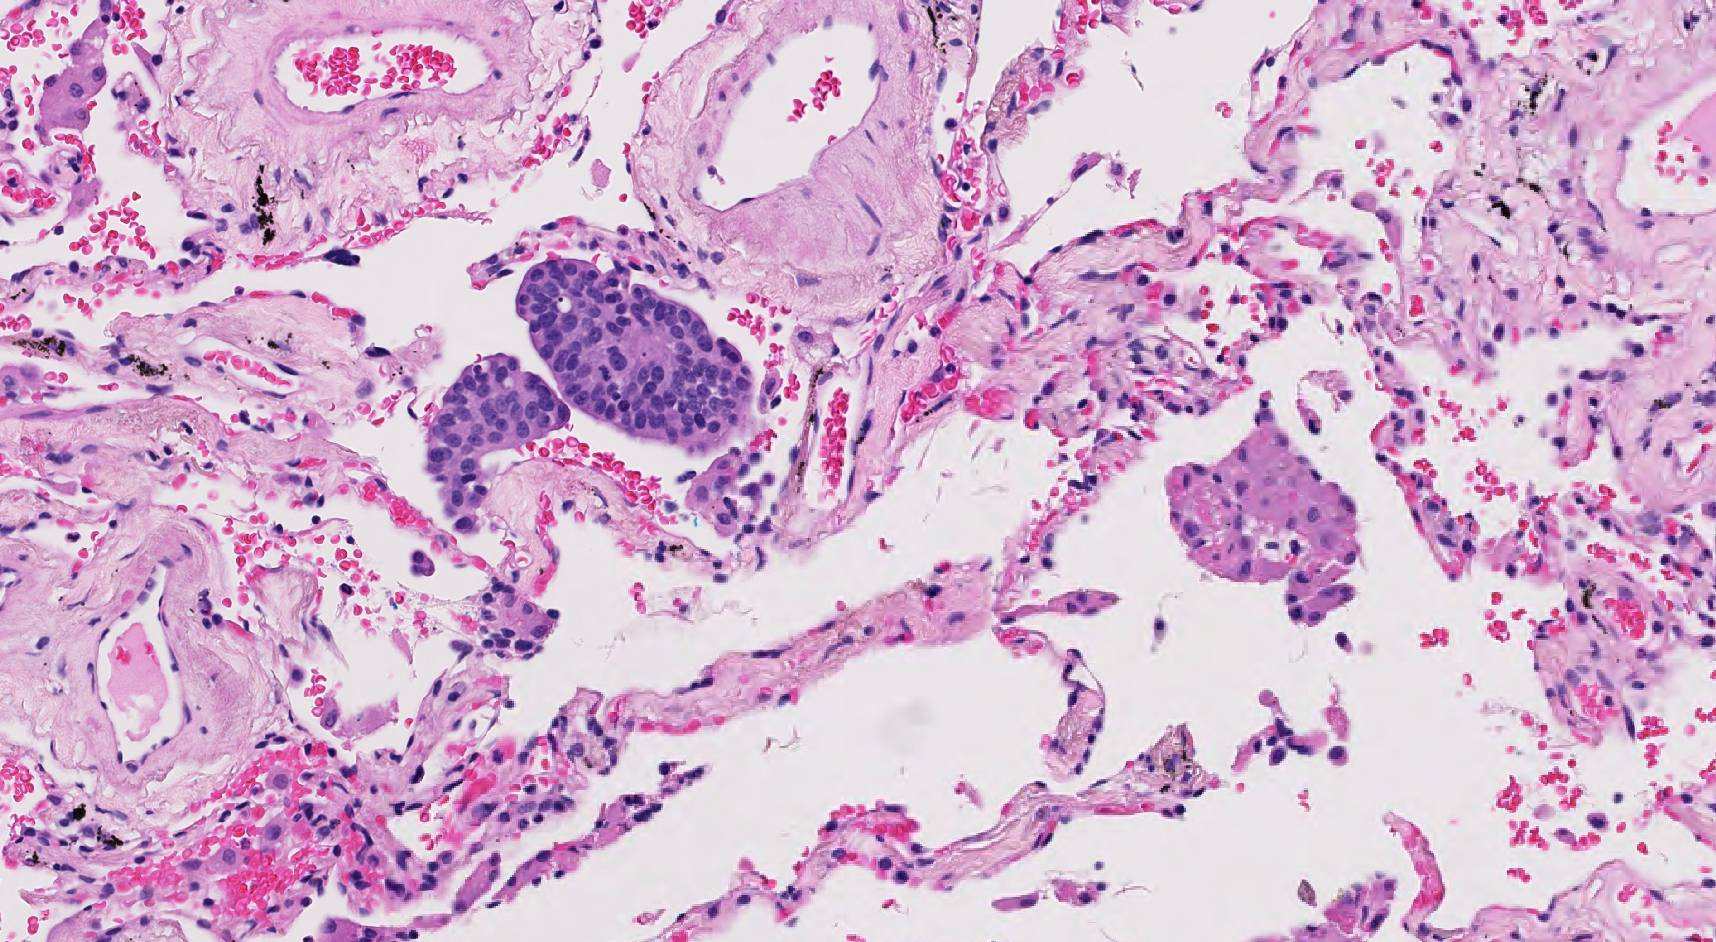stas: (511, 256, 756, 452), (423, 348, 577, 539)
